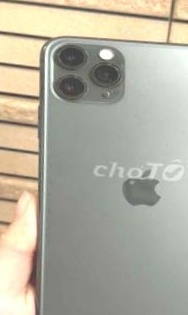scratch: (50, 37, 128, 102)
